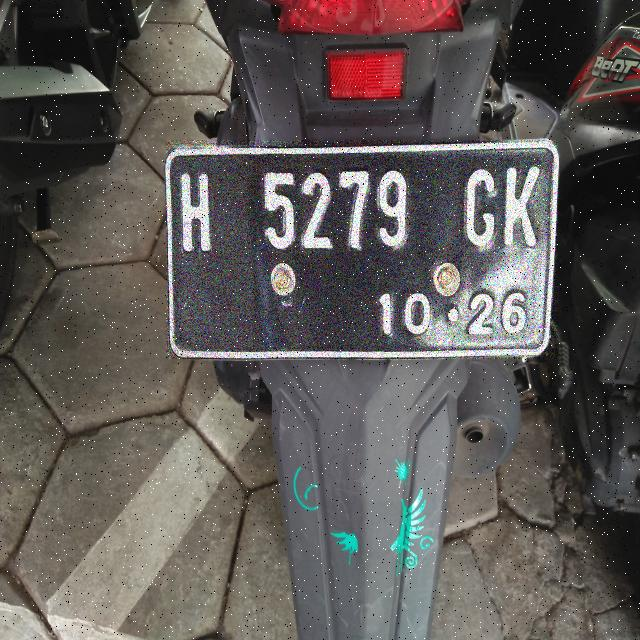plate: (166, 141, 557, 358)
